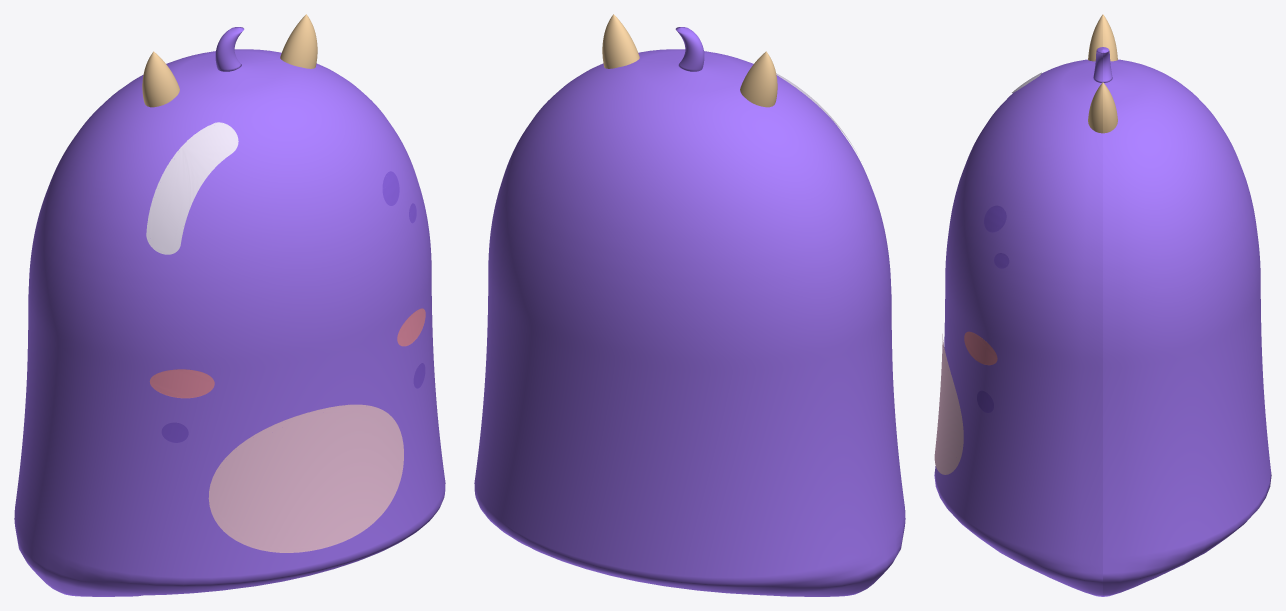
The model's file is body-spiky.glb.
3 views of the same model, side by side, from view 1: azimuth 30°, elevation 25°; view 2: azimuth 150°, elevation 25°; view 3: azimuth 270°, elevation 25° (orthographic). The views are drawn at different scales.
Parts seen in each view (by area): view 1: body_5_solid, body_7_paint, body_6_paint, body_12_paint, body_0_solid, body_1_solid, body_2_solid, body_13_paint; view 2: body_5_solid, body_0_solid, body_1_solid, body_2_solid; view 3: body_5_solid, body_7_paint, body_1_solid, body_0_solid, body_13_paint, body_2_solid, body_8_paint.
Boxes of the visible parts, x1,y1,x2,y2 form: body_5_solid: (14, 49, 445, 596); body_7_paint: (208, 404, 403, 552); body_6_paint: (146, 122, 238, 254); body_12_paint: (149, 369, 214, 398); body_0_solid: (142, 51, 179, 107); body_1_solid: (280, 14, 317, 68); body_2_solid: (215, 27, 244, 71); body_13_paint: (397, 308, 425, 346); body_5_solid: (474, 49, 905, 596); body_0_solid: (740, 51, 777, 107); body_1_solid: (602, 14, 639, 68); body_2_solid: (675, 27, 704, 71); body_5_solid: (934, 59, 1271, 596); body_7_paint: (934, 334, 963, 474); body_1_solid: (1088, 82, 1117, 133); body_0_solid: (1088, 14, 1117, 61); body_13_paint: (964, 331, 997, 365); body_2_solid: (1093, 47, 1112, 82); body_8_paint: (984, 205, 1006, 232).
Size of the model in its own units: 1.49 by 1.9 by 1.21.
